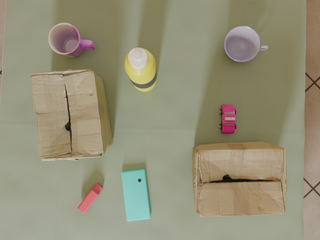bottle: (124, 48, 156, 92)
box: (30, 69, 113, 161), (192, 141, 287, 217)
cup: (48, 23, 95, 58), (224, 26, 268, 62)
phone: (121, 169, 150, 221)
toy_car: (78, 183, 103, 213), (220, 105, 236, 134)
